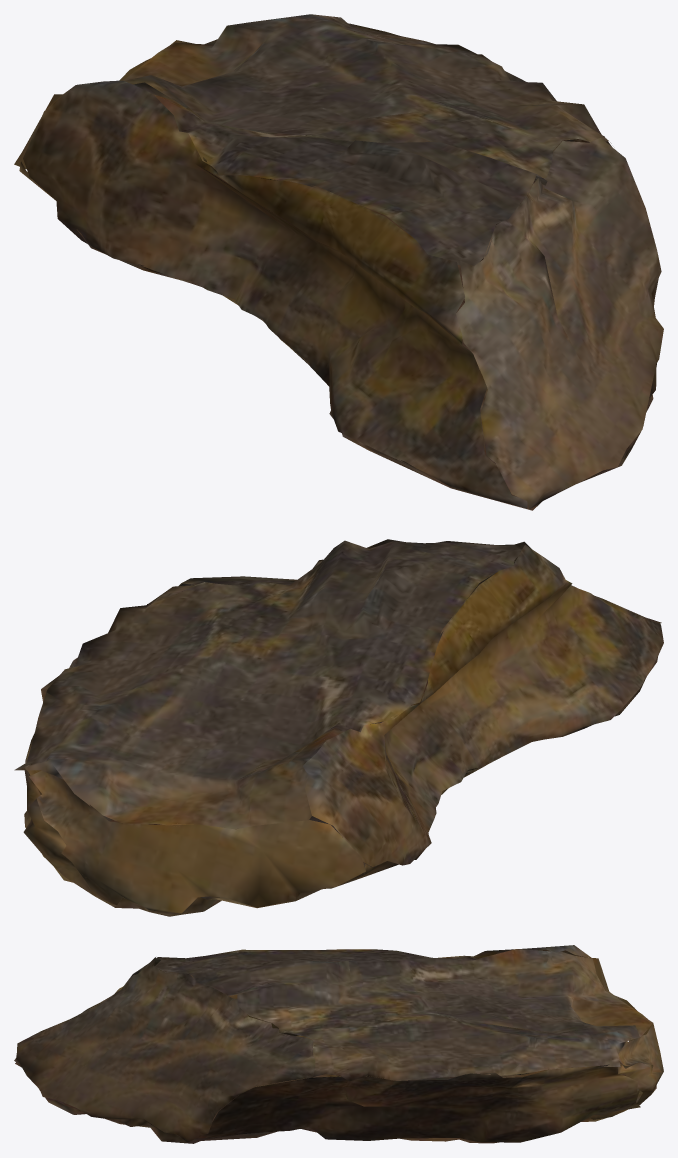
Rendered from rock_09_lod1.glb.
3 renders of one model, top to bottom at view 1: azimuth 30°, elevation 25°; view 2: azimuth 150°, elevation 25°; view 3: azimuth 270°, elevation 25°, orthographic. The views are drawn at different scales.
Parts seen in each view (by area): view 1: rock_09_LOD0; view 2: rock_09_LOD0; view 3: rock_09_LOD0.
Part boxes in pixels (x1,y1,x2,y2): rock_09_LOD0: (14, 14, 663, 510); rock_09_LOD0: (14, 539, 663, 916); rock_09_LOD0: (14, 945, 663, 1143).
Size of the model in its own units: 0.0746 by 0.0334 by 0.1447.
Materials: 1 (1 with a texture image).
